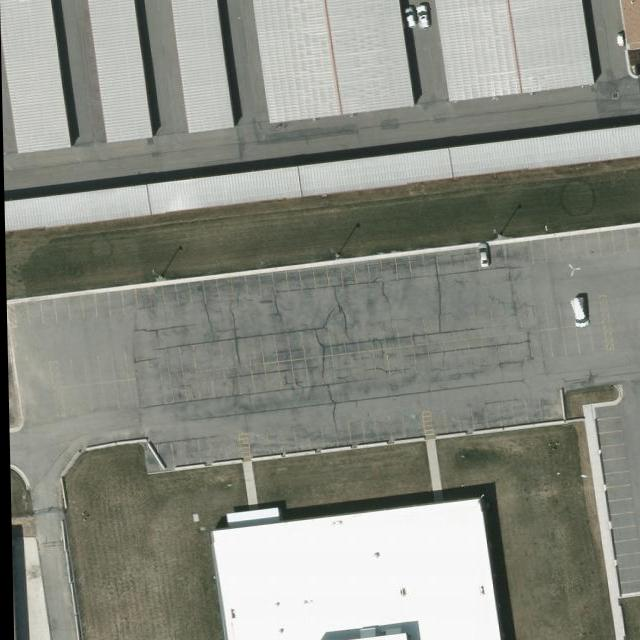vehicle: (571, 298, 588, 328), (417, 5, 432, 30), (475, 244, 490, 268), (402, 6, 417, 28)
